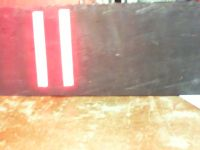switch: (57, 8, 75, 87), (31, 11, 48, 86)
